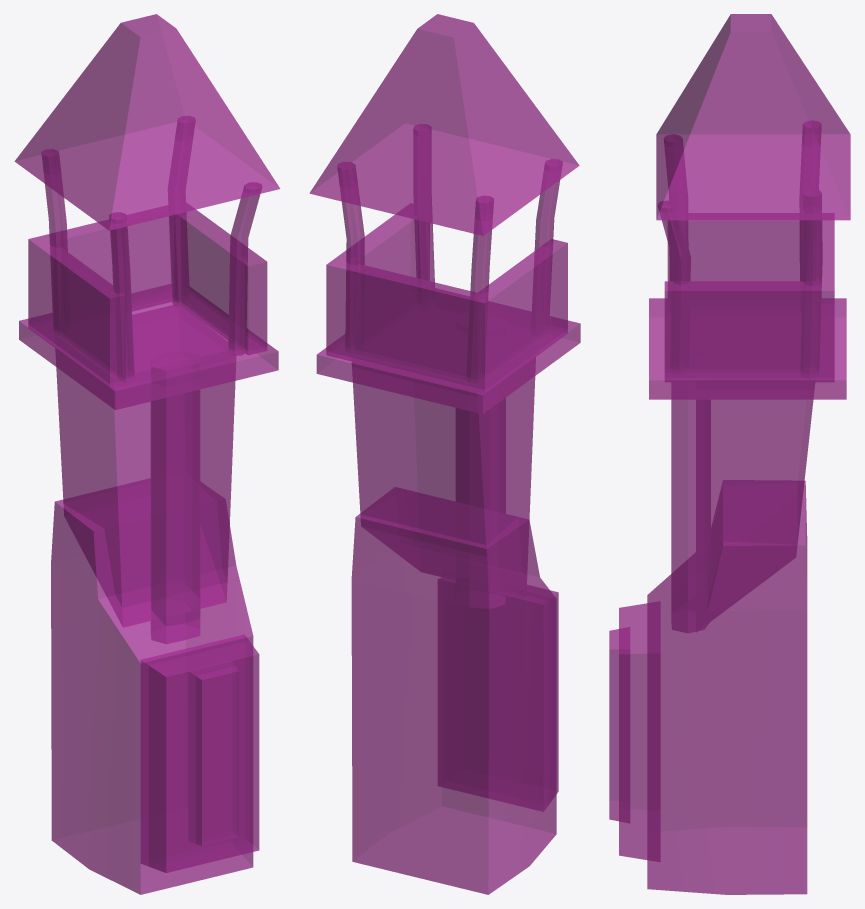
Rendered from SM_Bld_Tower_08_Collision.fbx.
The picture shows the model from 3 angles, left to right: view 1: azimuth 30°, elevation 25°; view 2: azimuth 150°, elevation 25°; view 3: azimuth 270°, elevation 25°; orthographic projection. The views are drawn at different scales.
Parts seen in each view (by area): view 1: SM_Bld_Tower_08_Collision; view 2: SM_Bld_Tower_08_Collision; view 3: SM_Bld_Tower_08_Collision.
Boxes of the visible parts, <box> form: SM_Bld_Tower_08_Collision: <box>14,14,280,894</box>; SM_Bld_Tower_08_Collision: <box>309,14,580,894</box>; SM_Bld_Tower_08_Collision: <box>609,14,850,894</box>.
Bounding box in the file's own units: 264 × 1204 × 314.
